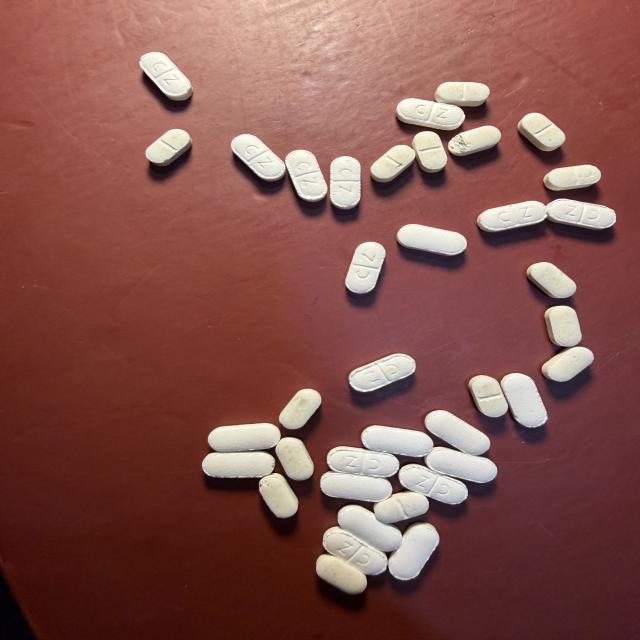pill: (323, 527, 387, 575), (425, 410, 490, 455), (338, 505, 401, 551), (389, 523, 439, 580), (399, 464, 467, 504), (425, 447, 497, 483), (140, 52, 193, 100), (231, 134, 285, 181), (349, 354, 415, 392), (501, 374, 547, 427), (362, 426, 433, 457), (477, 201, 547, 232), (327, 447, 399, 477), (285, 150, 327, 201), (397, 224, 466, 255), (397, 99, 465, 130), (321, 472, 391, 502), (547, 199, 616, 229), (208, 424, 280, 452), (346, 242, 385, 293), (316, 555, 366, 594), (203, 452, 275, 478), (518, 113, 565, 151), (527, 262, 576, 298), (542, 347, 593, 381), (374, 491, 428, 523), (259, 474, 298, 518), (279, 389, 321, 429), (146, 129, 191, 166), (469, 375, 508, 417), (276, 437, 314, 480), (371, 145, 415, 182), (449, 126, 501, 156), (330, 157, 360, 209), (545, 306, 581, 346), (412, 131, 447, 172), (544, 165, 601, 190), (435, 82, 489, 106)
